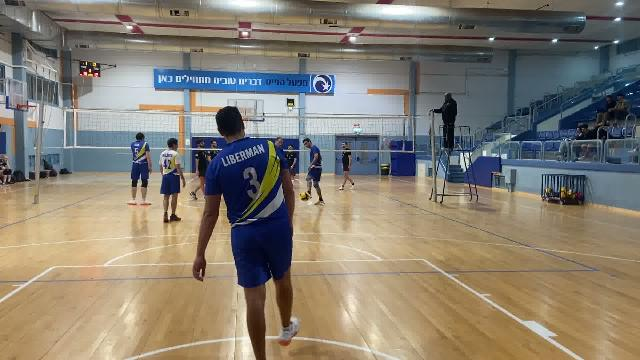ball: (299, 191, 312, 202)
